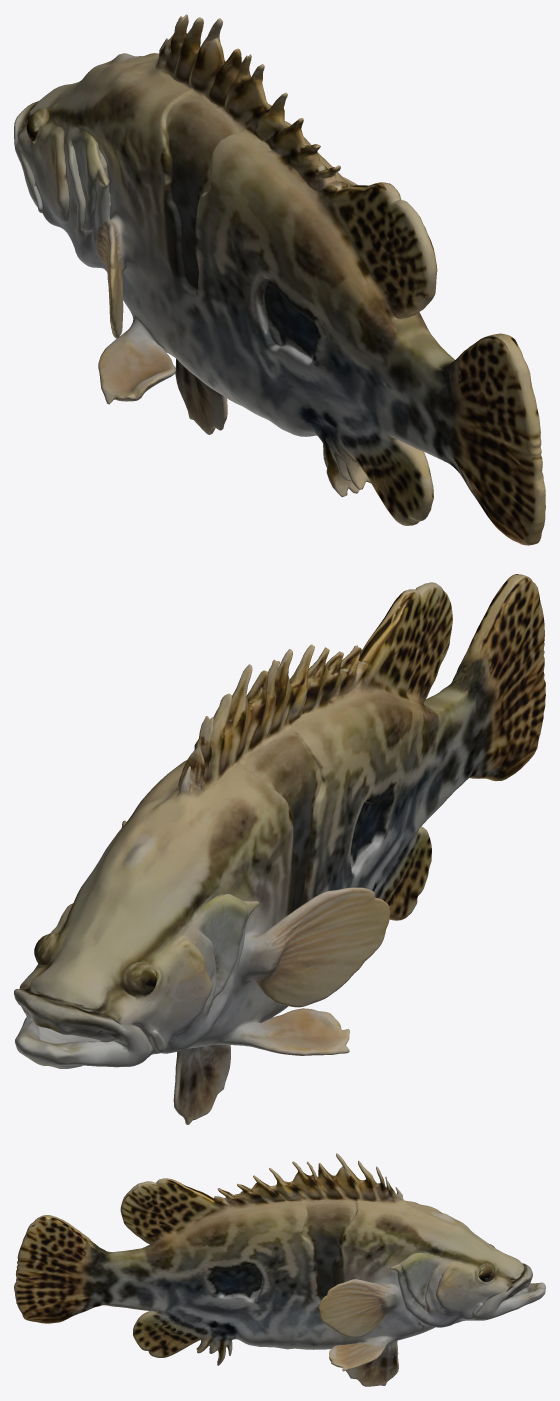
The model's file is mandarinfish.glb.
The picture shows the model from 3 angles, top to bottom: view 1: azimuth 30°, elevation 25°; view 2: azimuth 150°, elevation 25°; view 3: azimuth 270°, elevation 25°; orthographic projection. The views are drawn at different scales.
Visible parts, largest first — view 1: tripo_node_a0e512d8-07e6-42e1-96ef-965209cd5aa5; view 2: tripo_node_a0e512d8-07e6-42e1-96ef-965209cd5aa5; view 3: tripo_node_a0e512d8-07e6-42e1-96ef-965209cd5aa5.
Part boxes in pixels (left/top/right/bottom): tripo_node_a0e512d8-07e6-42e1-96ef-965209cd5aa5: left=14, top=14, right=545, bottom=545; tripo_node_a0e512d8-07e6-42e1-96ef-965209cd5aa5: left=14, top=574, right=545, bottom=1124; tripo_node_a0e512d8-07e6-42e1-96ef-965209cd5aa5: left=14, top=1153, right=545, bottom=1386.
Size of the model in its own units: 0.3076 by 0.4754 by 1.
1 material, 1 textured.
